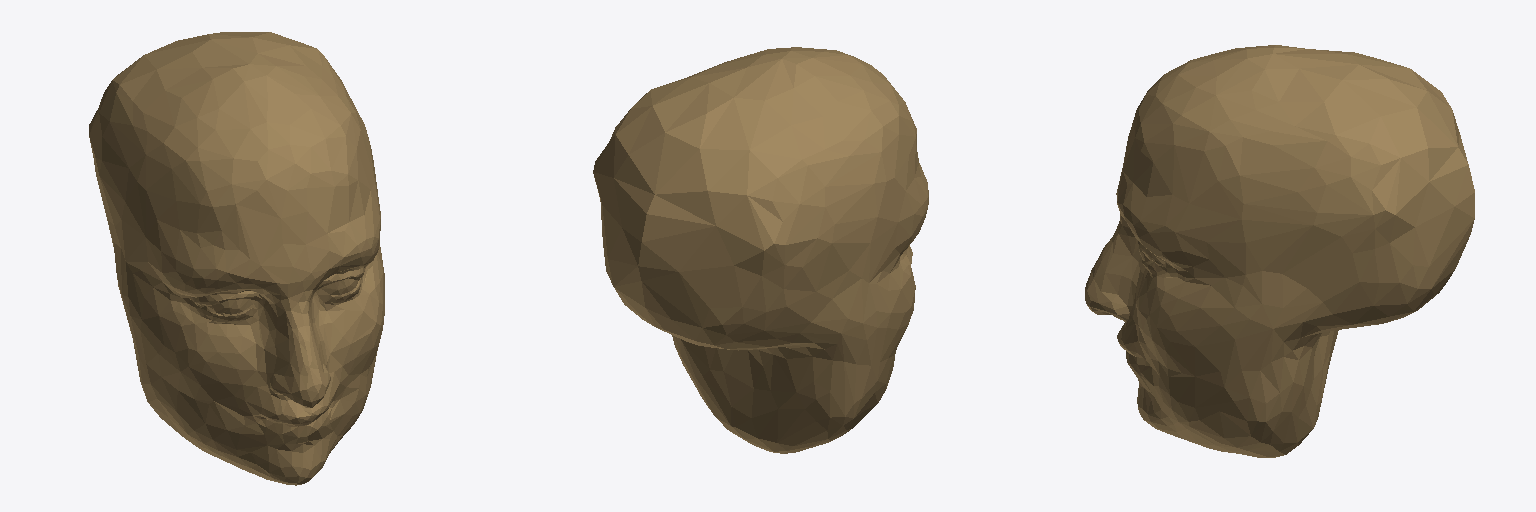
File: lisablend2.obj
The picture shows the model from 3 angles: view 1: azimuth 30°, elevation 25°; view 2: azimuth 150°, elevation 25°; view 3: azimuth 270°, elevation 25°; orthographic projection.
Visible parts, largest first — view 1: Head.001_Head2.000; view 2: Head.001_Head2.000; view 3: Head.001_Head2.000.
Boxes of the visible parts, x1=… form: Head.001_Head2.000: x1=89, y1=32, x2=384, y2=485; Head.001_Head2.000: x1=593, y1=47, x2=928, y2=453; Head.001_Head2.000: x1=1085, y1=45, x2=1474, y2=457.
Size of the model in its own units: 1.9 by 2.97 by 2.67.